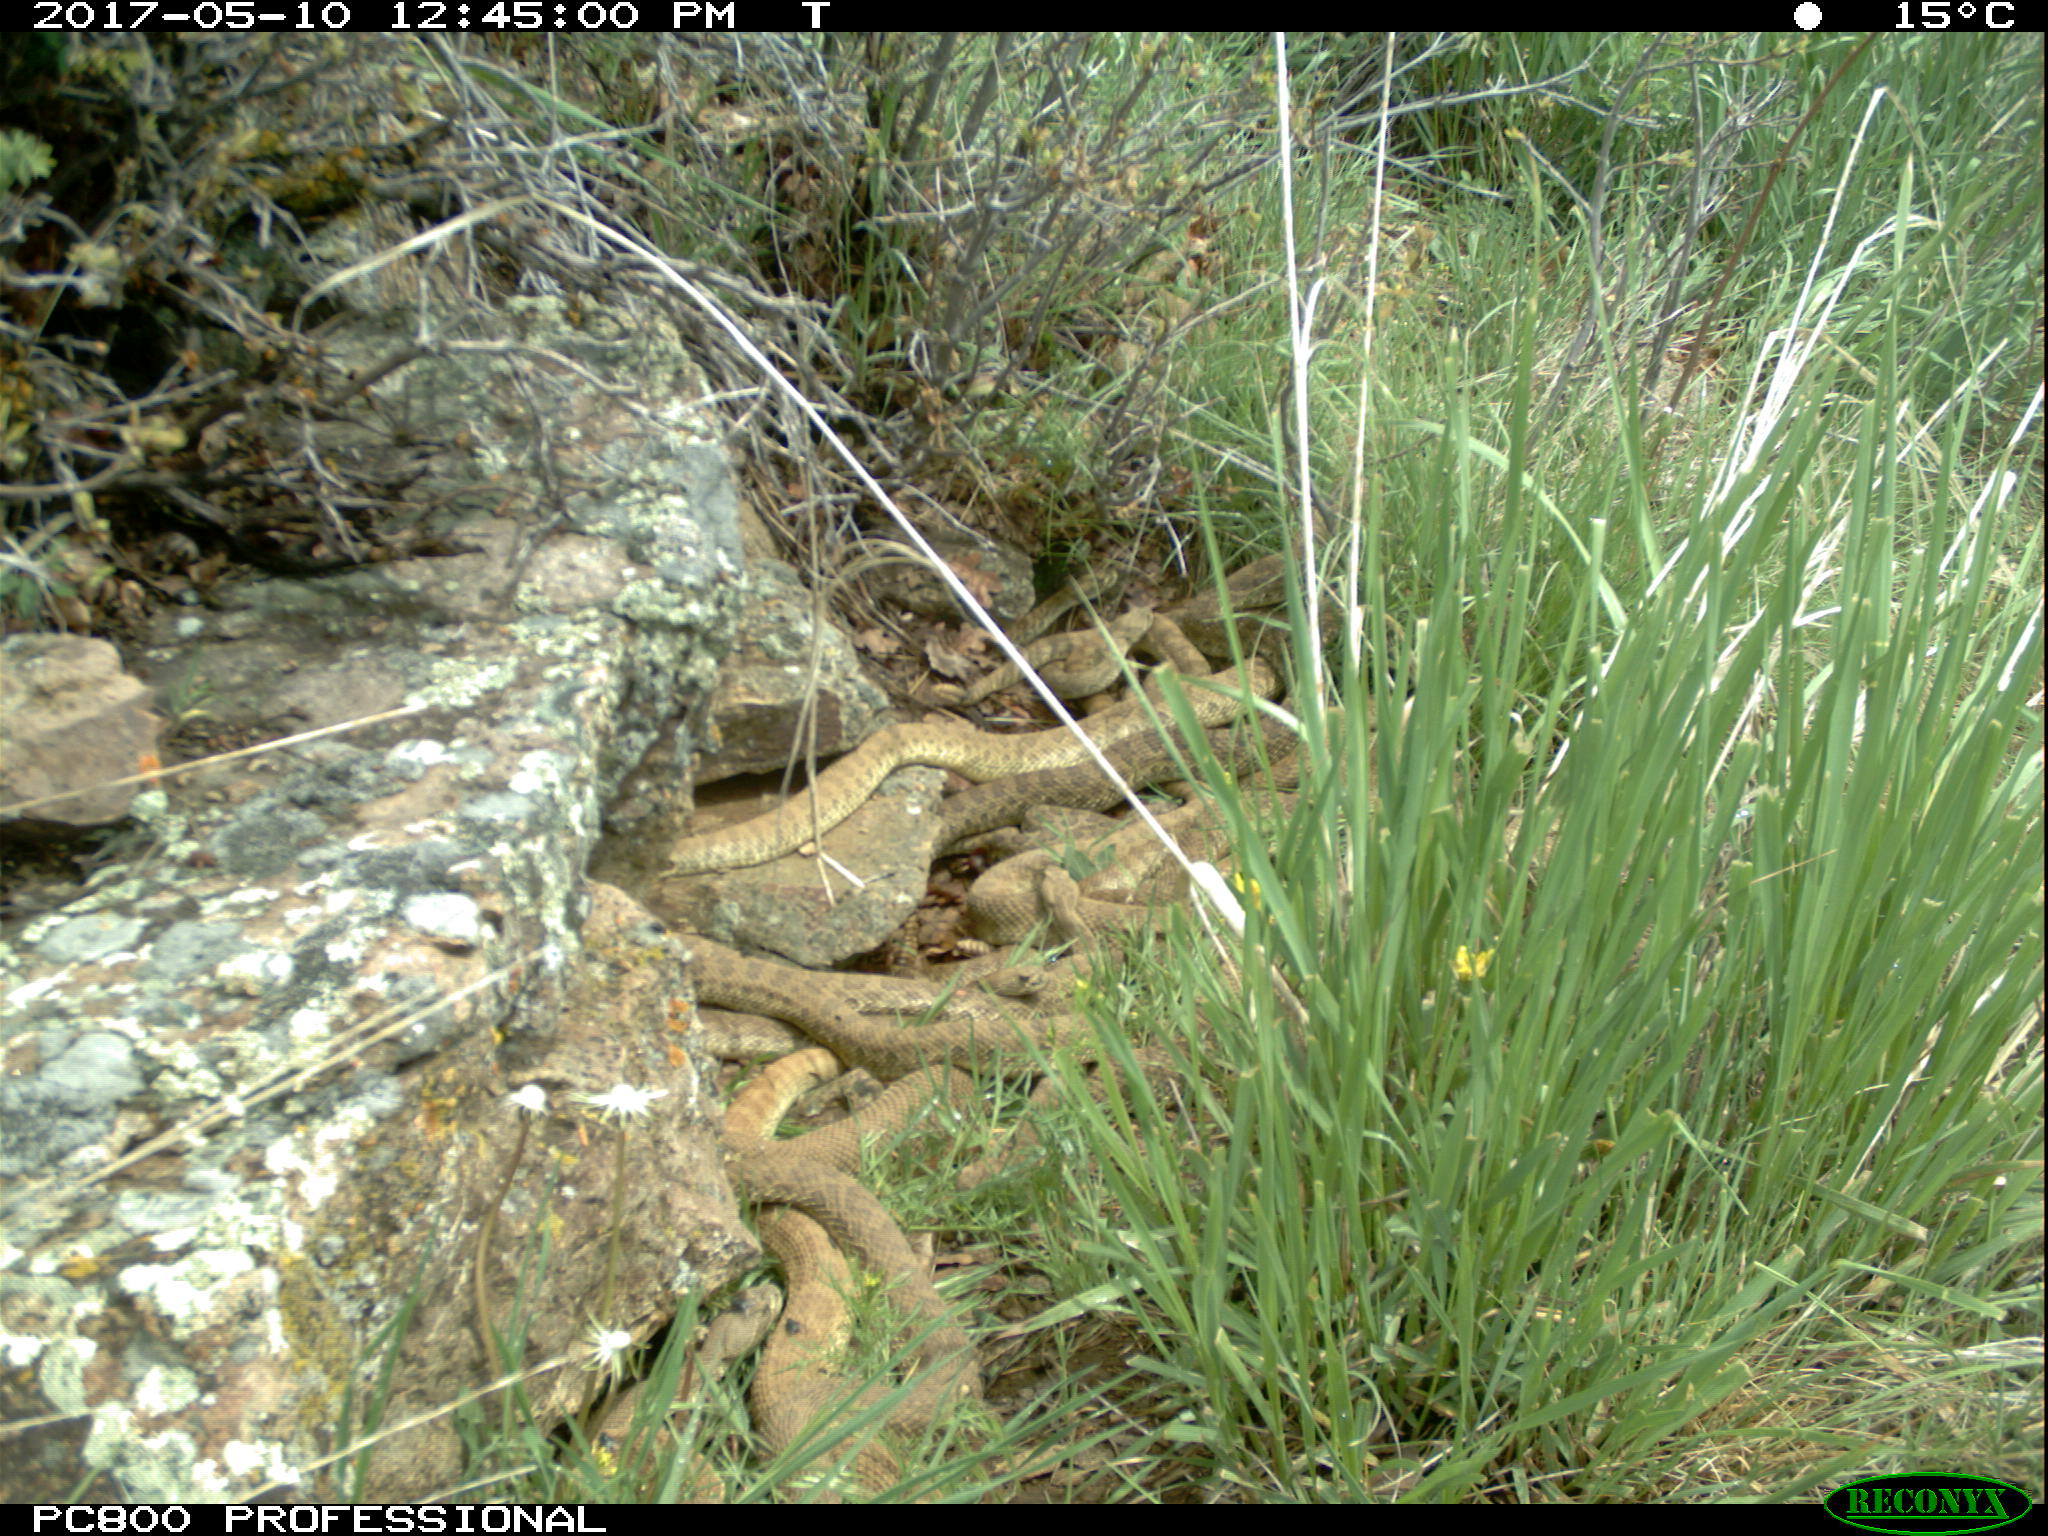snake: (651, 650, 1293, 870), (721, 1044, 985, 1504), (669, 937, 1158, 1087), (959, 792, 1280, 962), (581, 1281, 792, 1452), (950, 566, 1232, 692)
